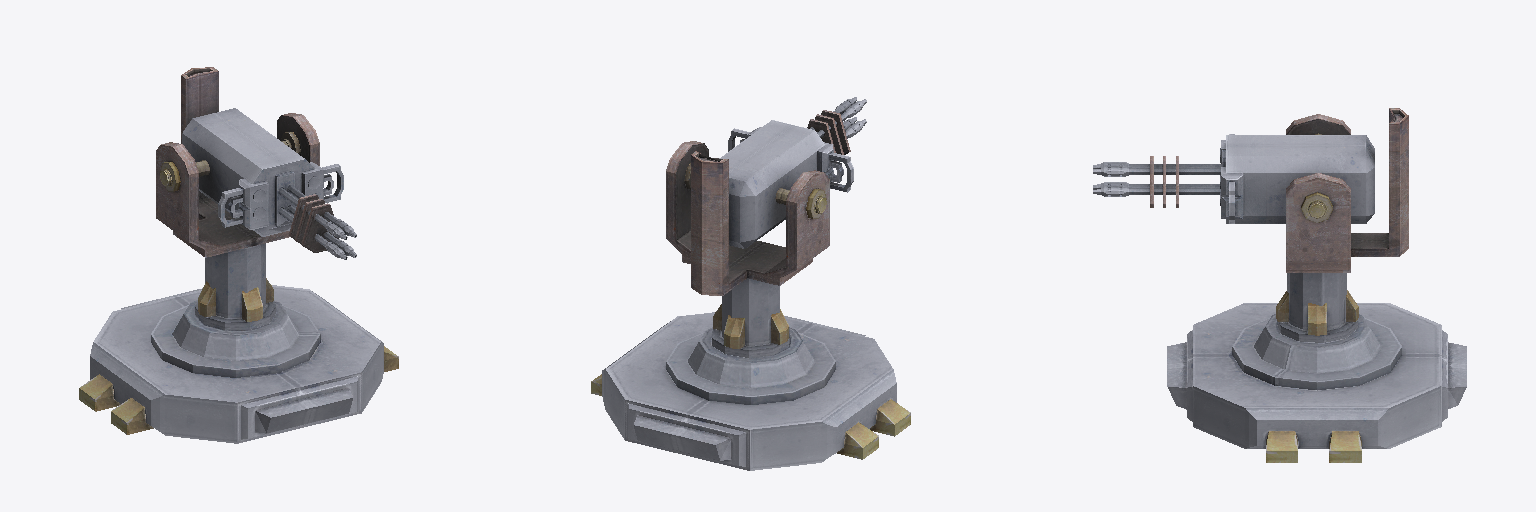
3 views of the same model, side by side, from view 1: azimuth 30°, elevation 25°; view 2: azimuth 150°, elevation 25°; view 3: azimuth 270°, elevation 25° (orthographic).
Visible parts, largest first — view 1: Torreta2_model:Object082; view 2: Torreta2_model:Object082; view 3: Torreta2_model:Object082.
Boxes of the visible parts, <box> form: Torreta2_model:Object082: <box>79,67,398,443</box>; Torreta2_model:Object082: <box>591,97,910,470</box>; Torreta2_model:Object082: <box>1093,108,1466,462</box>.
Size of the model in its own units: 6.08 by 6.01 by 7.25.
Materials: 1 (1 with a texture image).